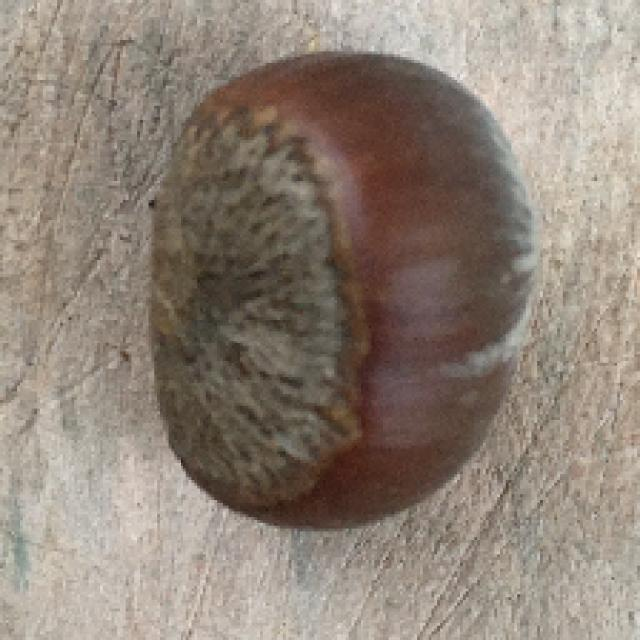damagedHazelnut: (139, 44, 545, 541)
